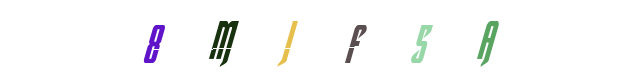5: (340, 0, 420, 80)
8: (114, 0, 194, 80)
A: (371, 0, 451, 80)
F: (275, 0, 355, 80)
J: (248, 0, 328, 80)
M: (184, 0, 264, 80)
